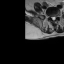CCS_normal: (53, 15, 54, 21)
LFS_severe_stenosis: (55, 15, 57, 18)
LLS_normal: (54, 15, 56, 20)
RFS_severe_stenosis: (49, 15, 51, 19)
RLS_normal: (51, 15, 53, 20)
